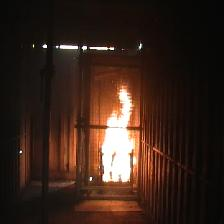fire: (102, 87, 136, 182)
